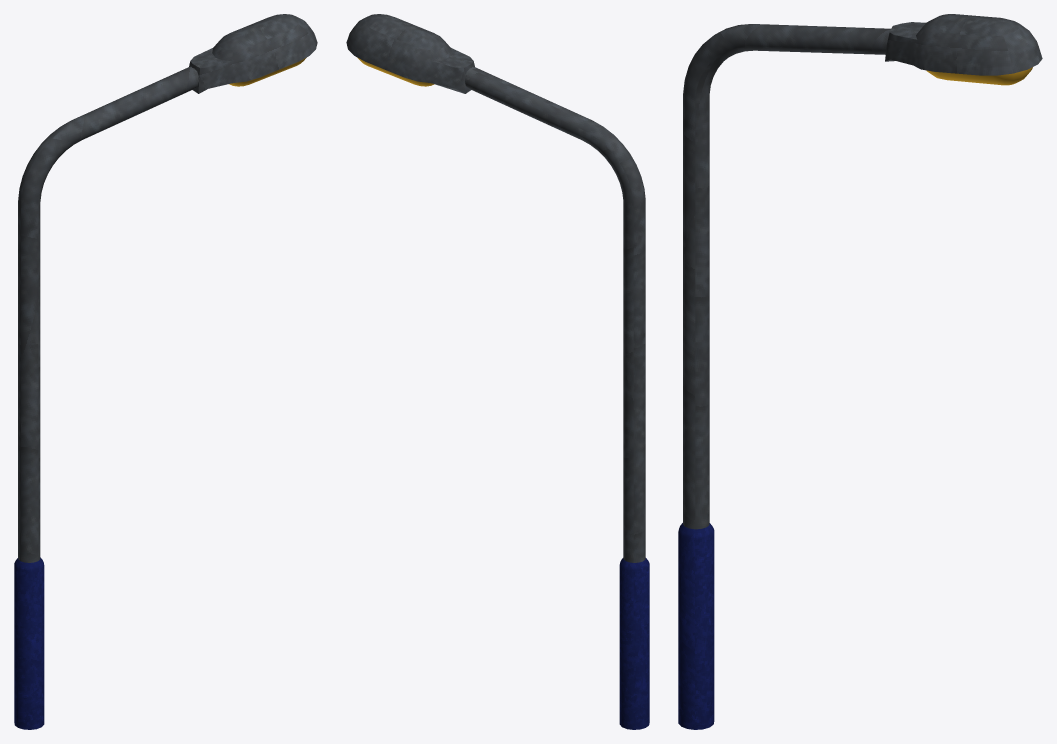
The model's file is street_lamp.glb.
3 views of the same model, side by side, from view 1: azimuth 30°, elevation 25°; view 2: azimuth 150°, elevation 25°; view 3: azimuth 330°, elevation 25° (orthographic). The views are drawn at different scales.
Visible parts, largest first — view 1: StreetLightPost, BulbHolder; view 2: StreetLightPost, BulbHolder; view 3: StreetLightPost, BulbHolder, BulbLight.
Boxes of the visible parts, bbox=[...] form: StreetLightPost: bbox=[14, 66, 198, 729]; BulbHolder: bbox=[189, 14, 317, 93]; StreetLightPost: bbox=[465, 66, 649, 729]; BulbHolder: bbox=[346, 14, 474, 93]; StreetLightPost: bbox=[678, 24, 890, 729]; BulbHolder: bbox=[885, 14, 1042, 75]; BulbLight: bbox=[926, 67, 1032, 85].
Bounding box in the file's own units: 0.8384 × 1.74 × 0.1582.
Materials: 3 (2 with a texture image).
